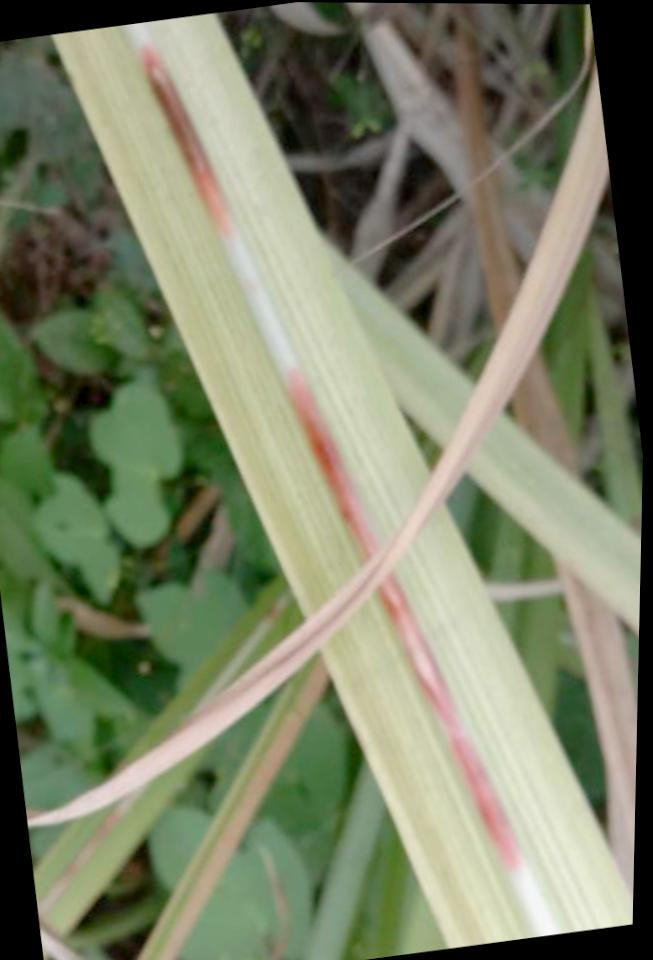RedRot: (376, 570, 525, 874), (283, 366, 376, 558), (141, 41, 232, 237)
